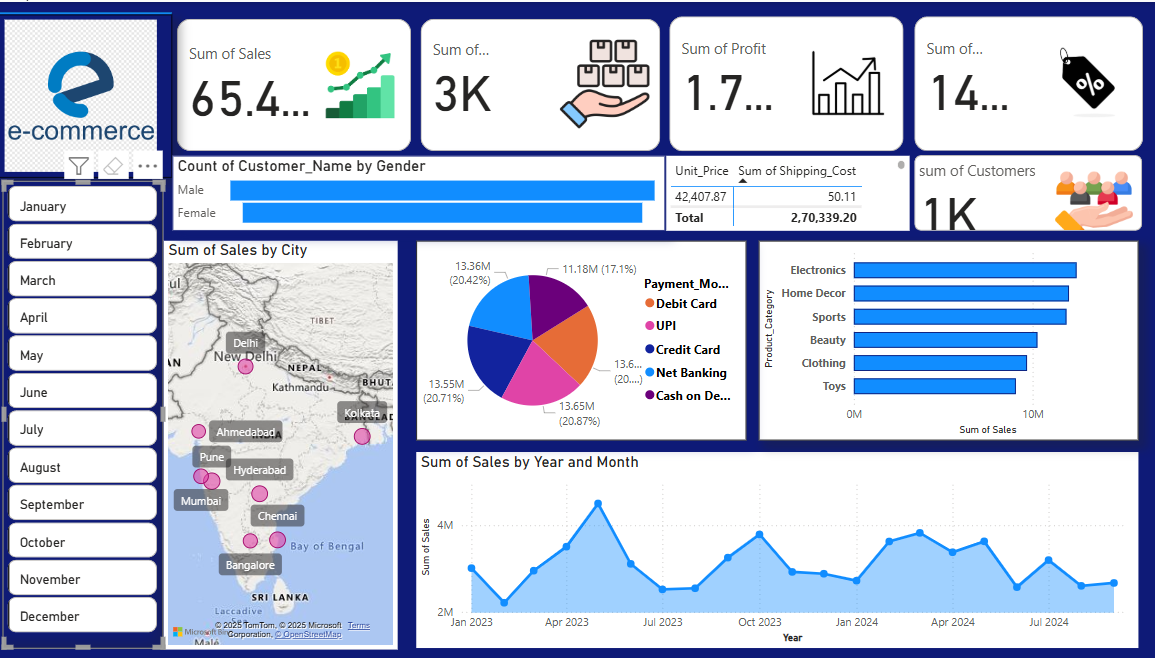

Layout of this report page (visuals, bound fields, positions):
{"tool":"powerbi","page":{"name":"Page 1","canvas":[1280,720],"ordinal":0},"visuals":[{"type":"lineChart","fields":{"Category":["ecommerce_sales_data.Order_Date.Variation.Date Hierarchy.Year","ecommerce_sales_data.Order_Date.Variation.Date Hierarchy.Month"],"Y":["Sum(ecommerce_sales_data.Sales)"]},"box":[467.9,494,793.1,215.4],"z":0},{"type":"cardVisual","fields":{"Data":["Sum(ecommerce_sales_data.Sales)"]},"box":[200,13.9,268,155.5],"z":1000},{"type":"cardVisual","fields":{"Data":["Sum(ecommerce_sales_data.Quantity)"]},"box":[468,13.9,273.6,155.5],"z":2000},{"type":"cardVisual","fields":{"Data":["Sum(ecommerce_sales_data.Profit)"]},"box":[741.5,11.1,268,158.3],"z":3000},{"type":"cardVisual","fields":{"Data":["Sum(ecommerce_sales_data.Discount)"]},"box":[1009.5,11.1,261.1,158.3],"z":4000},{"type":"shape","box":[0,11.1,200,181.9],"z":5000},{"type":"image","box":[0,13.9,200,179.1],"z":6000},{"type":"clusteredBarChart","fields":{"Y":["Sum(ecommerce_sales_data.Sales)"],"Category":["ecommerce_sales_data.Product_Category"]},"box":[843.9,262.1,417.2,219.6],"z":7000},{"type":"advancedSlicerVisual","fields":{"Values":["ecommerce_sales_data.Order_Date.Variation.Date Hierarchy.Month"]},"box":[13.9,195.8,176.4,513.8],"z":8000},{"type":"pieChart","fields":{"Category":["ecommerce_sales_data.Payment_Mode"],"Y":["Sum(ecommerce_sales_data.Sales)"]},"box":[467.9,262.1,362.3,219.6],"z":9000},{"type":"map","fields":{"Category":["ecommerce_sales_data.City"],"Size":["Sum(ecommerce_sales_data.Sales)"]},"box":[190.7,262.1,256.6,448.7],"z":10000},{"type":"funnel","fields":{"Category":["ecommerce_sales_data.Gender"],"Y":["CountNonNull(ecommerce_sales_data.Customer_Name)"]},"box":[200.3,168.8,540.7,82.3],"z":11000},{"type":"pivotTable","fields":{"Rows":["ecommerce_sales_data.Unit_Price"],"Values":["Sum(ecommerce_sales_data.Shipping_Cost)"]},"box":[742.4,168.8,267.6,82.3],"z":12000},{"type":"cardVisual","fields":{"Data":["CountNonNull(ecommerce_sales_data.Customer_Name)"]},"box":[1010,163.3,260.7,93.3],"z":13000}]}

Visuals, with their boxes in screenshot pixels (x1, y1, x2, y2), scaled from the page's 1280x720 canvas onto the 1155x658 screenshot:
lineChart - ecommerce_sales_data.Order_Date.Variation.Date Hierarchy.Year x ecommerce_sales_data.Order_Date.Variation.Date Hierarchy.Month: bbox=(422, 451, 1138, 648)
cardVisual - Sum(ecommerce_sales_data.Sales): bbox=(180, 13, 422, 155)
cardVisual - Sum(ecommerce_sales_data.Quantity): bbox=(422, 13, 669, 155)
cardVisual - Sum(ecommerce_sales_data.Profit): bbox=(669, 10, 911, 155)
cardVisual - Sum(ecommerce_sales_data.Discount): bbox=(911, 10, 1147, 155)
shape: bbox=(0, 10, 180, 176)
image: bbox=(0, 13, 180, 176)
clusteredBarChart - Sum(ecommerce_sales_data.Sales) x ecommerce_sales_data.Product_Category: bbox=(761, 240, 1138, 440)
advancedSlicerVisual - ecommerce_sales_data.Order_Date.Variation.Date Hierarchy.Month: bbox=(13, 179, 172, 648)
pieChart - ecommerce_sales_data.Payment_Mode x Sum(ecommerce_sales_data.Sales): bbox=(422, 240, 749, 440)
map - ecommerce_sales_data.City x Sum(ecommerce_sales_data.Sales): bbox=(172, 240, 404, 650)
funnel - ecommerce_sales_data.Gender x CountNonNull(ecommerce_sales_data.Customer_Name): bbox=(181, 154, 669, 229)
pivotTable - ecommerce_sales_data.Unit_Price x Sum(ecommerce_sales_data.Shipping_Cost): bbox=(670, 154, 911, 229)
cardVisual - CountNonNull(ecommerce_sales_data.Customer_Name): bbox=(911, 149, 1147, 235)
